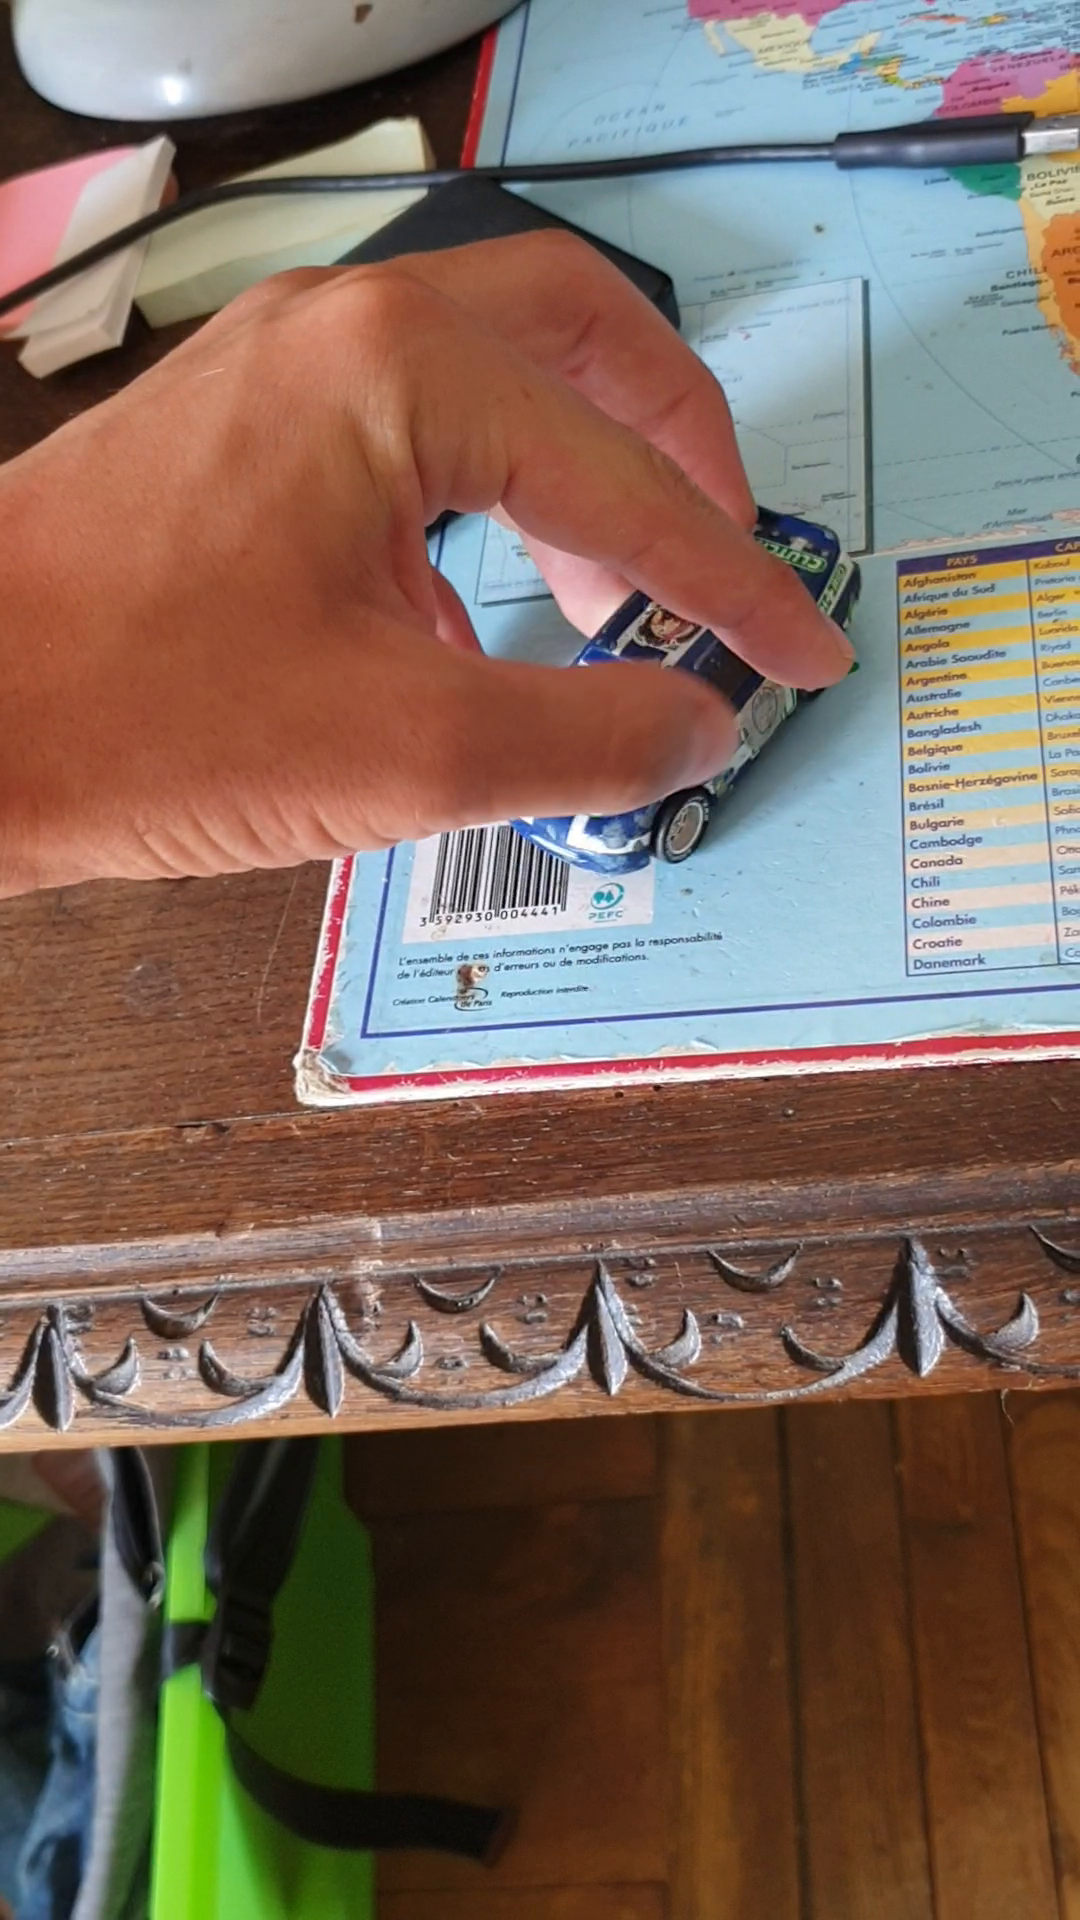cars: (492, 493, 862, 872)
